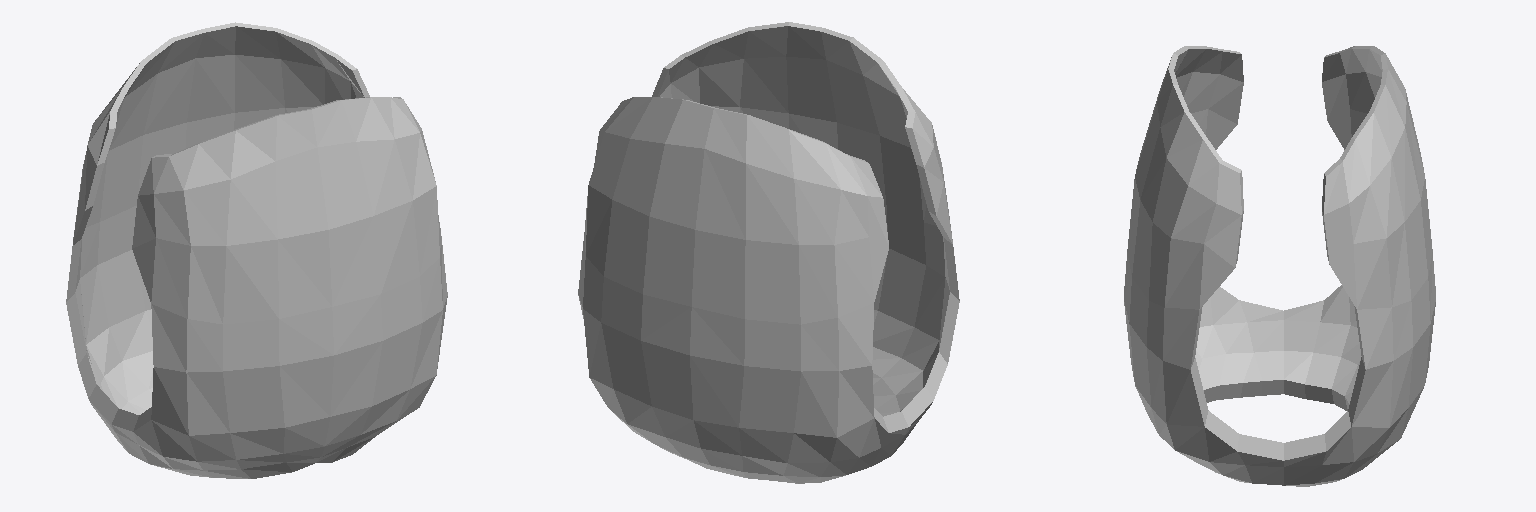
The model's file is BodyCover.obj.
3 renders of one model, left to right at view 1: azimuth 30°, elevation 25°; view 2: azimuth 150°, elevation 25°; view 3: azimuth 270°, elevation 25°, orthographic.
Parts seen in each view (by area): view 1: unnamed_object1; view 2: unnamed_object1; view 3: unnamed_object1.
Part boxes in pixels (bbox=[...]): unnamed_object1: bbox=[66, 22, 447, 478]; unnamed_object1: bbox=[578, 22, 959, 483]; unnamed_object1: bbox=[1124, 46, 1435, 486].
Size of the model in its own units: 20.53 by 24.97 by 18.9.